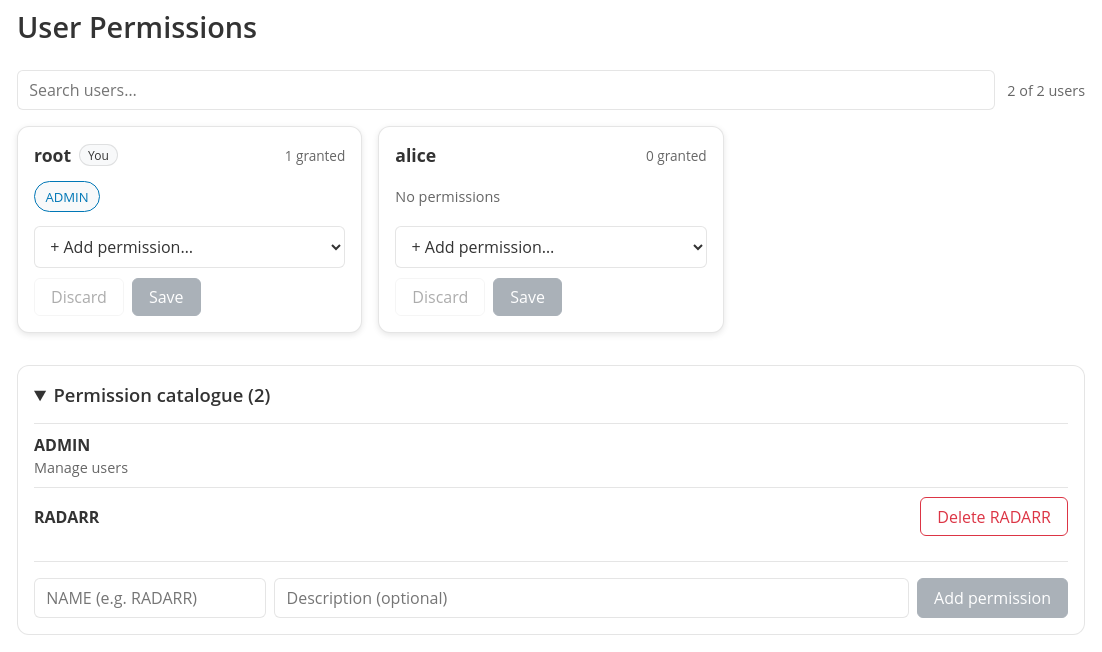
Test: AdminUsers › filters users by search
Expected: the dropdown named "Add permission to alice" is shown, [395,226,707,268]
In the search field labelled "Search users": (506, 90) [17,70,995,110], type "ali"
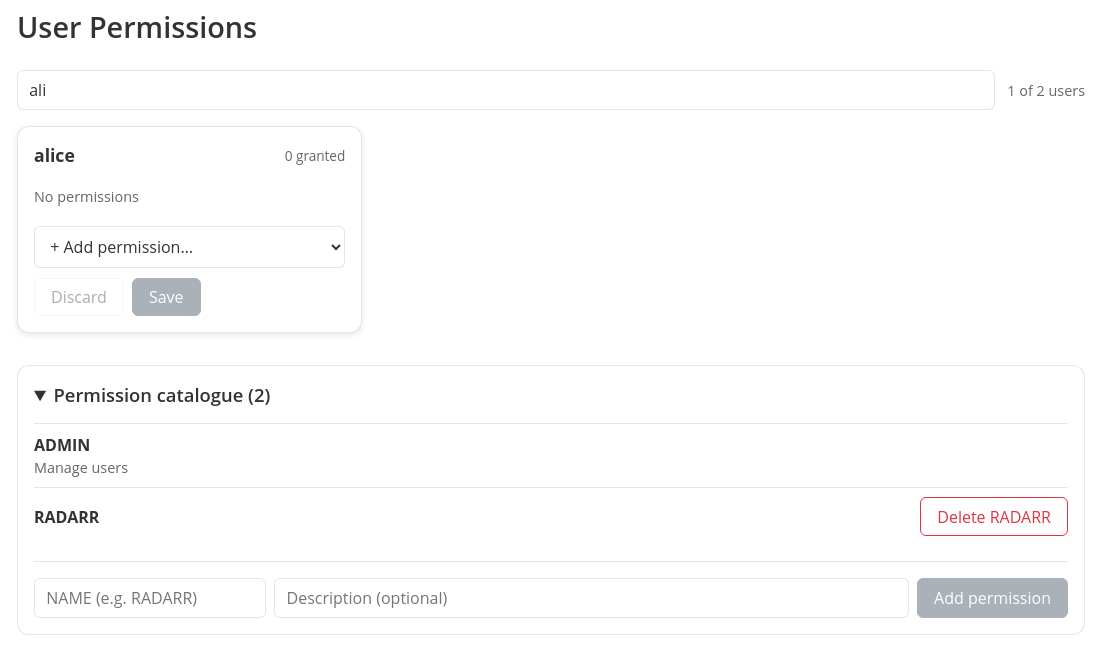
Expected: the list named "Permissions for alice" is shown, [34,187,139,206]
Expected: the text "1 of 2 users" is shown, [1007,80,1085,100]
Replace the text in the search field named "Search users" with "zzz": (506, 90) [17,70,995,110]
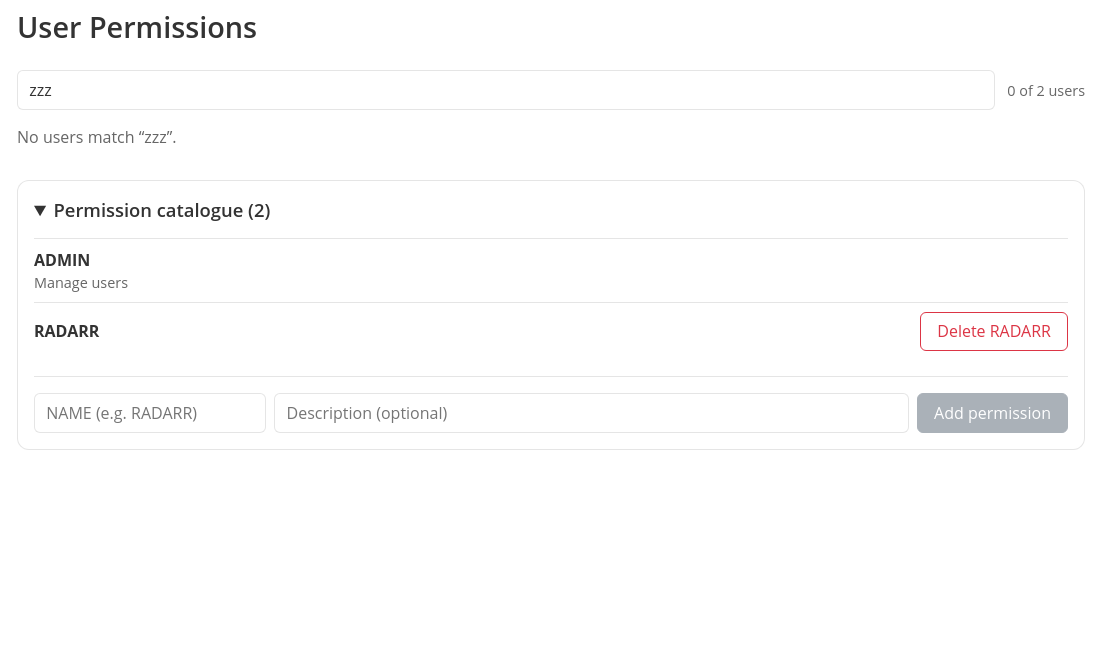
Expected: the text "No users match “zzz”." is shown, [17,126,177,148]
